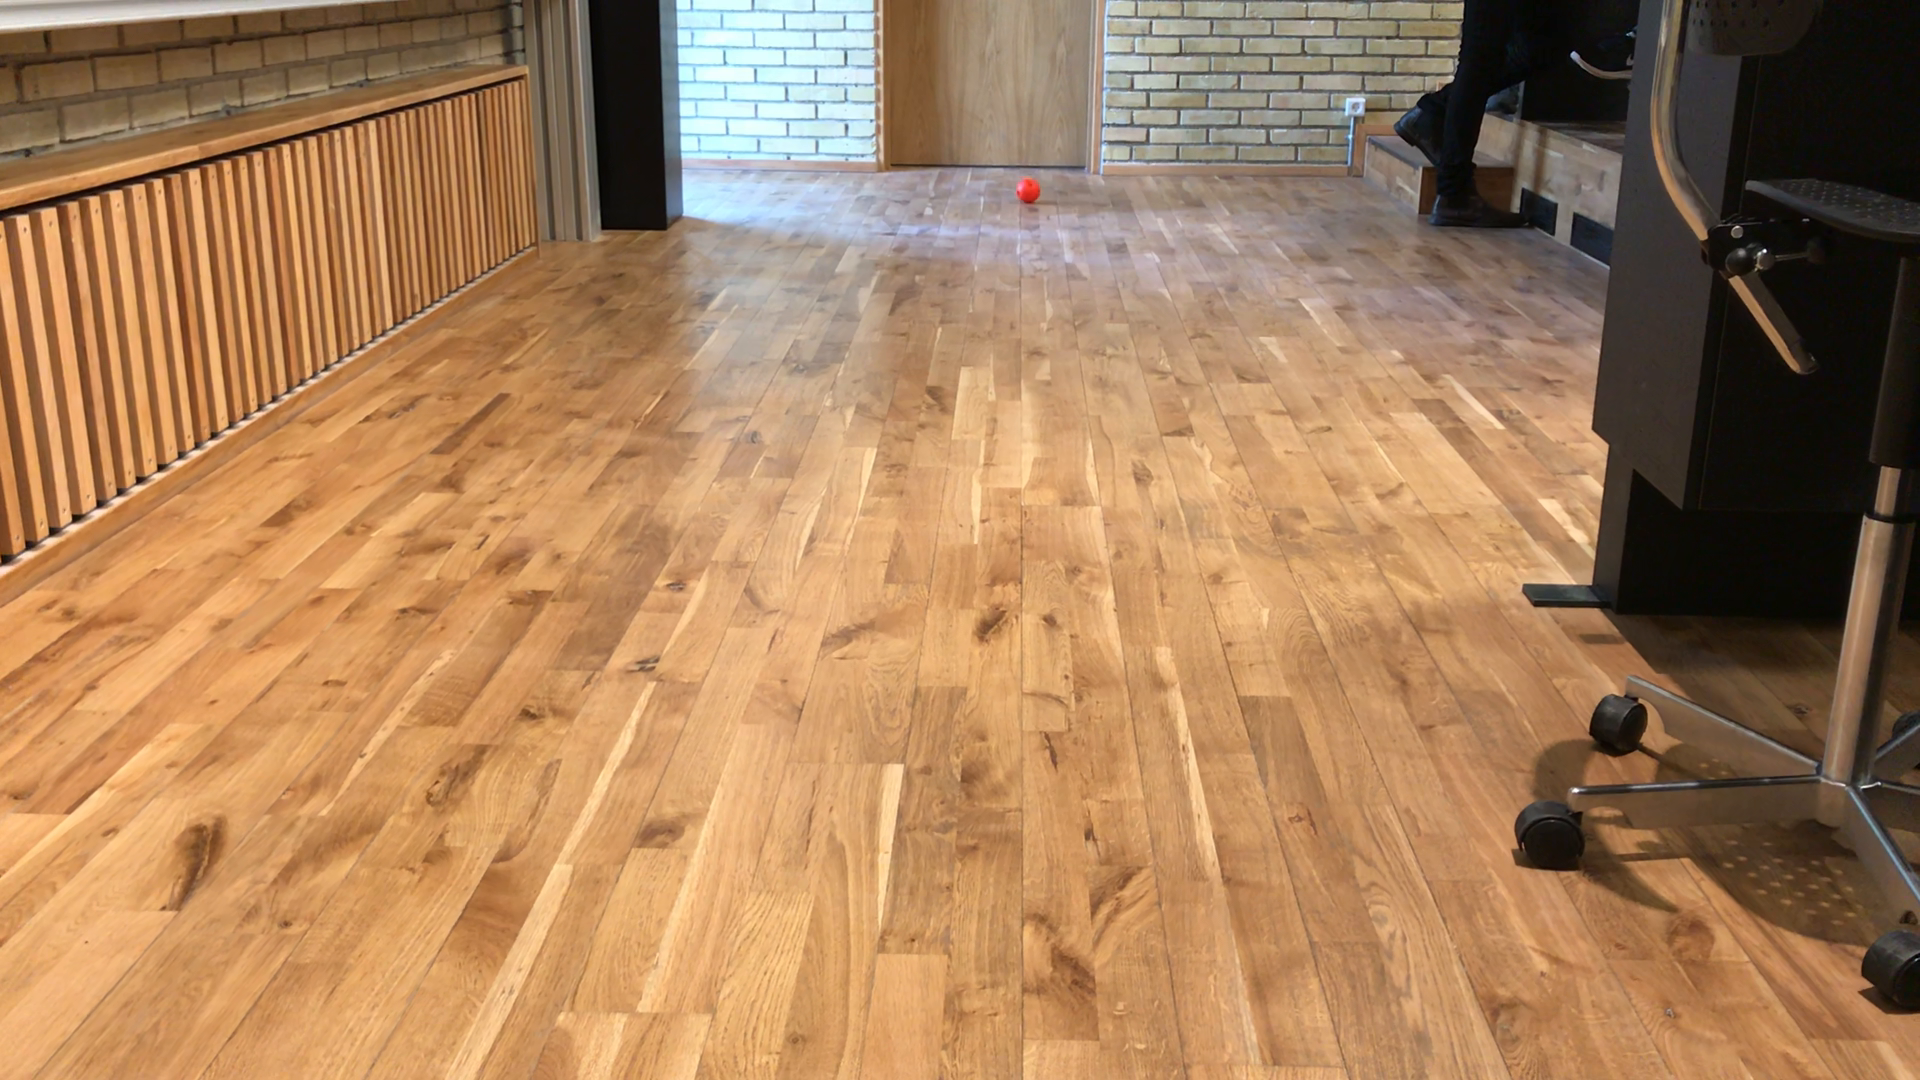Ball: (1015, 169, 1042, 207)
